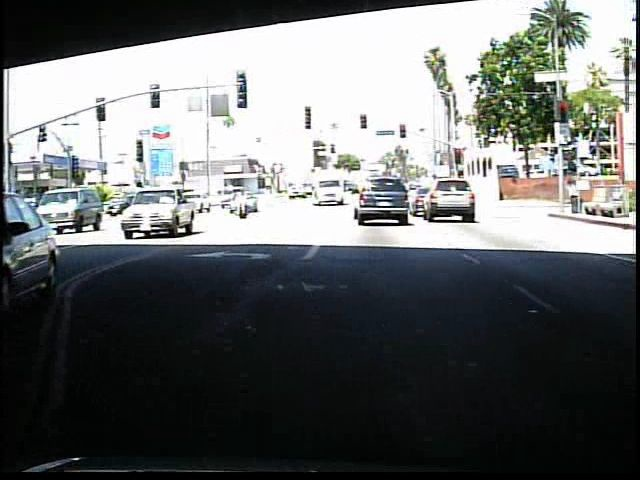person: (233, 185, 250, 220)
